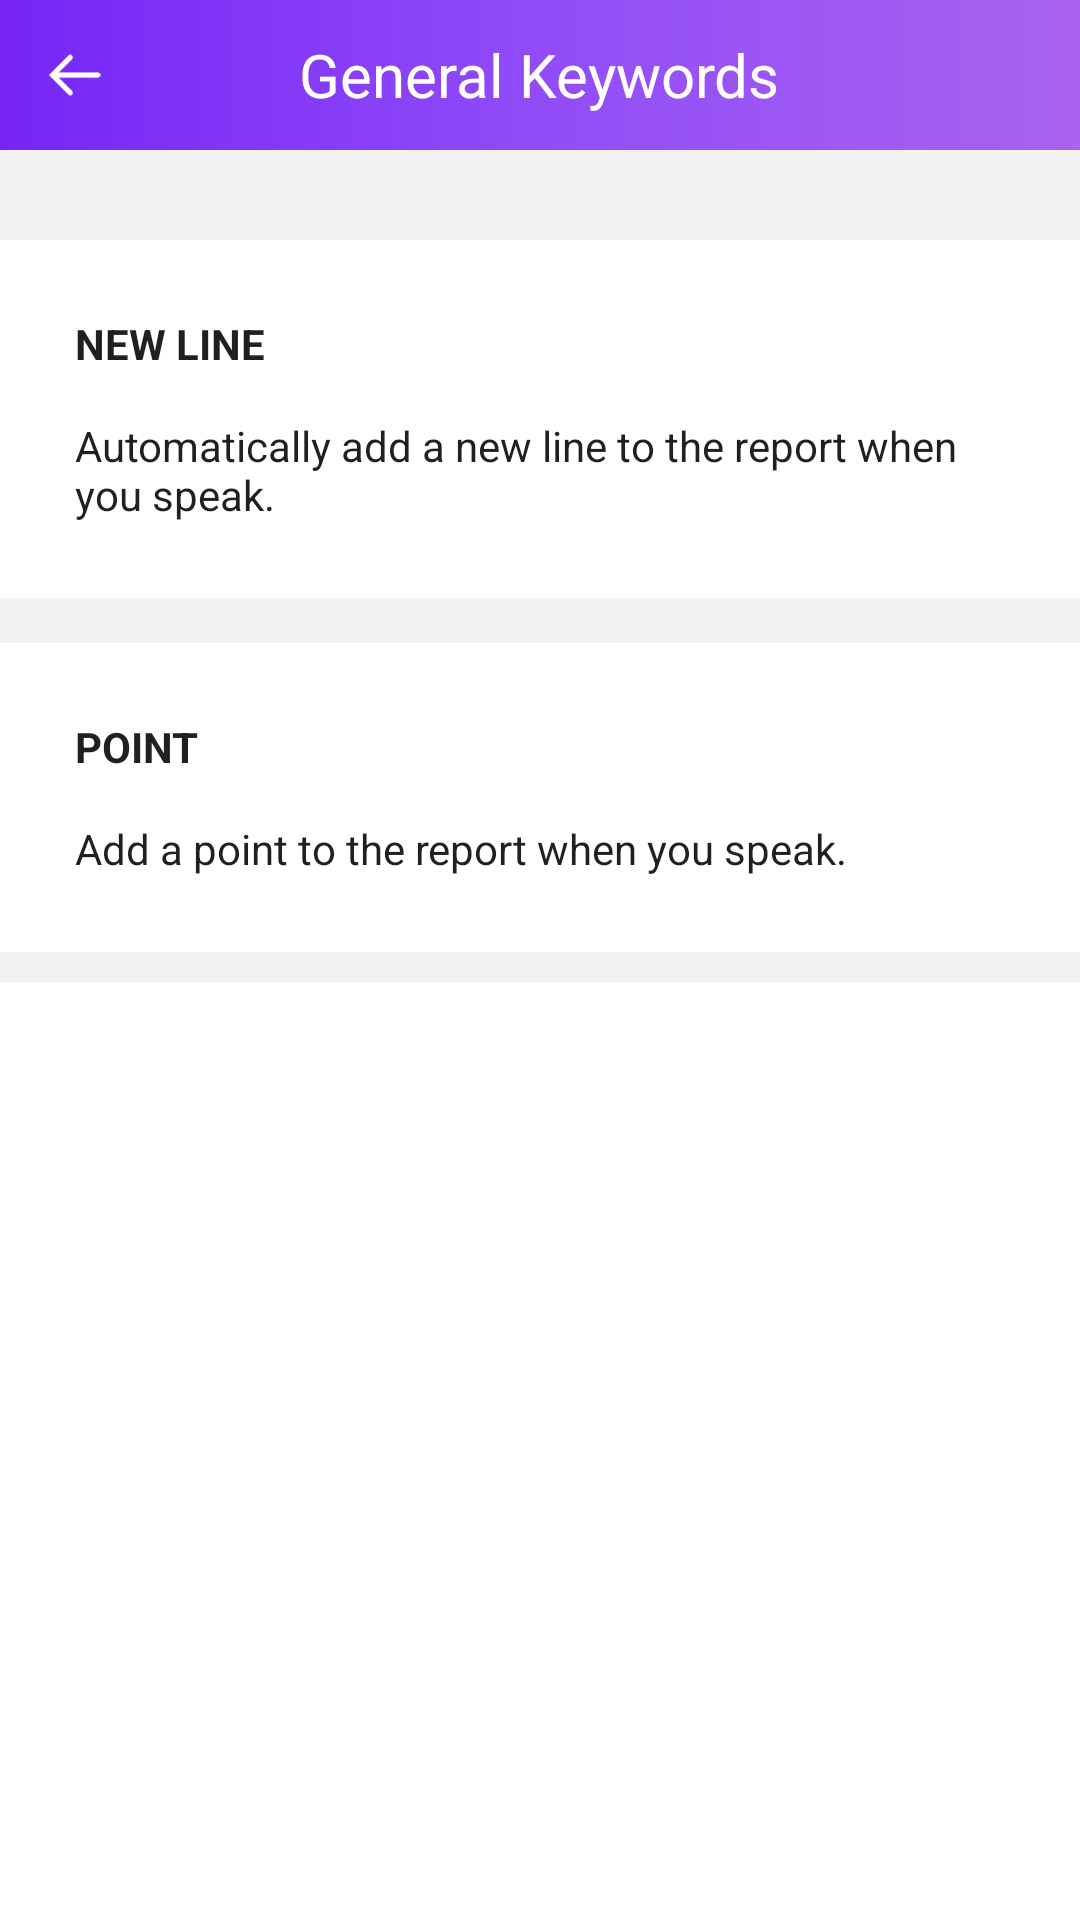

Named icons in this screenshot (1080px×1920px) and their bounding boxes, (left=x1, top=y1, right=x2, bottom=y2):
leftarrow: (left=49, top=54, right=101, bottom=96)
